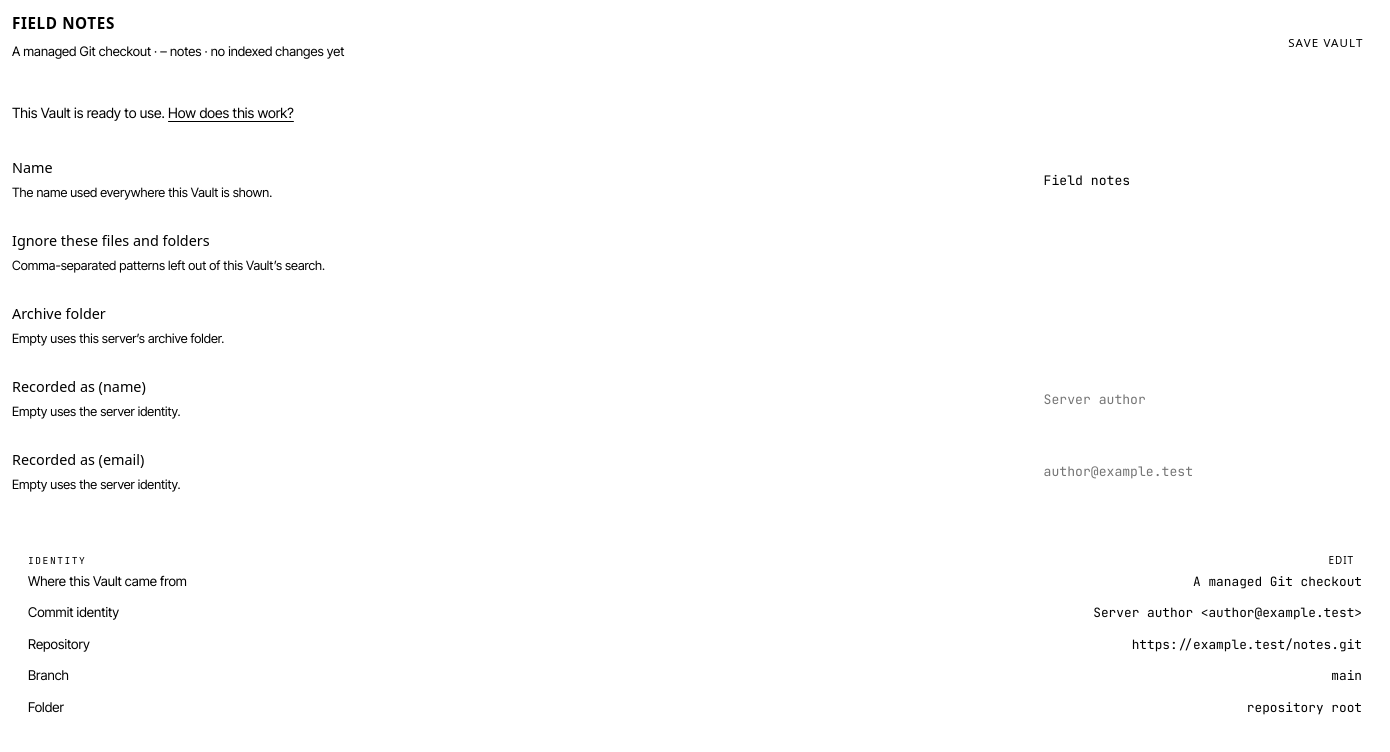
VaultSettingsDetail — sign-in › sends keep when the token field is left blank
Expected: the heading "Field notes" is shown, [12,13,115,33]
Click the button "Save Vault" at {"x": 1326, "y": 43}, box [1274,28,1378,57]
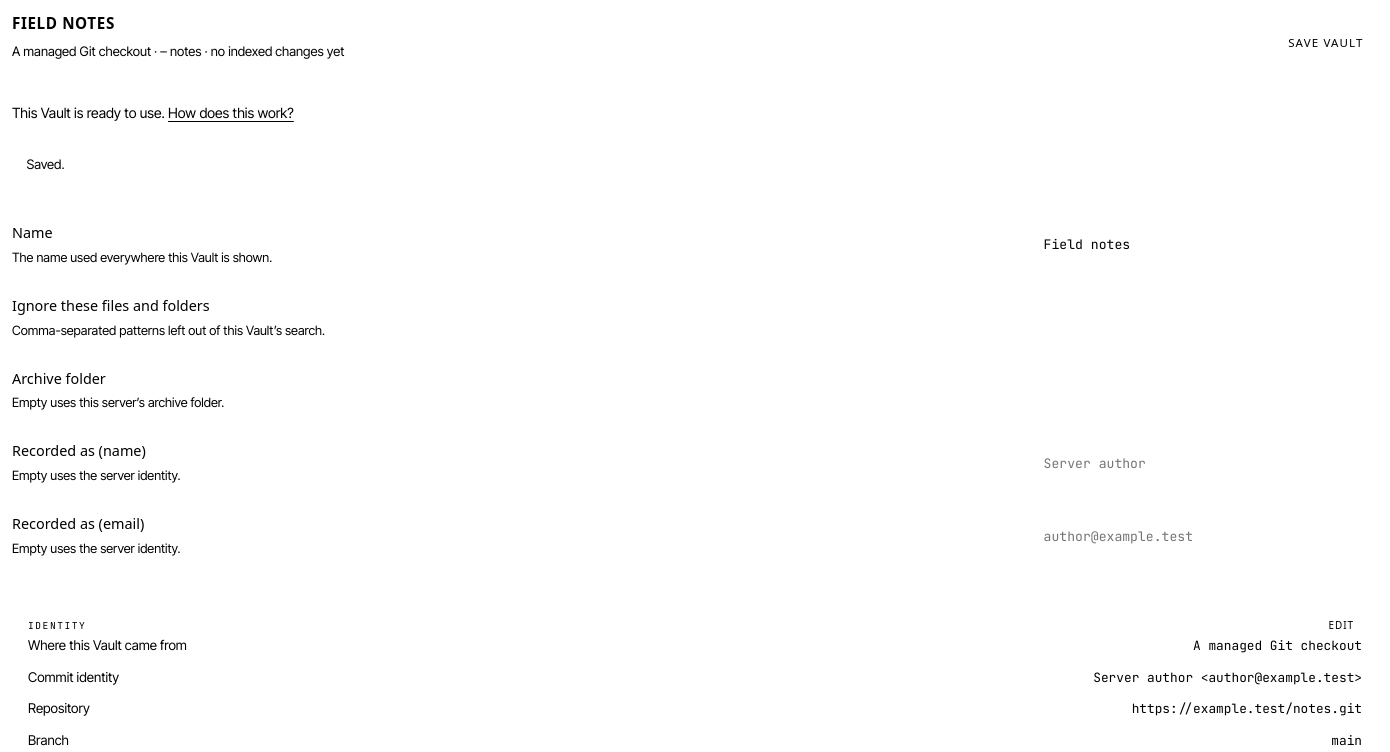
Now the text "Saved." is shown, box [26,156,65,172]
